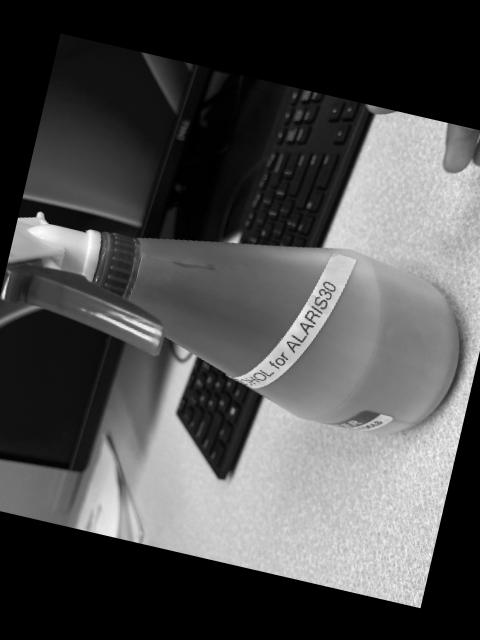AlcoholSpray: (0, 213, 465, 435)
